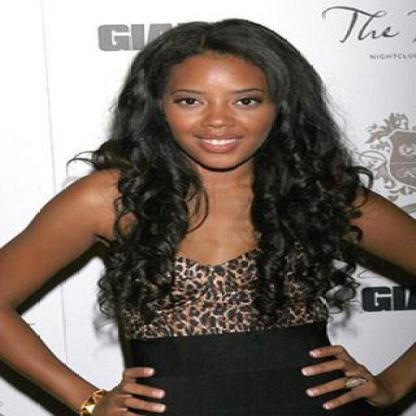long-hair: (82, 170, 380, 198)
